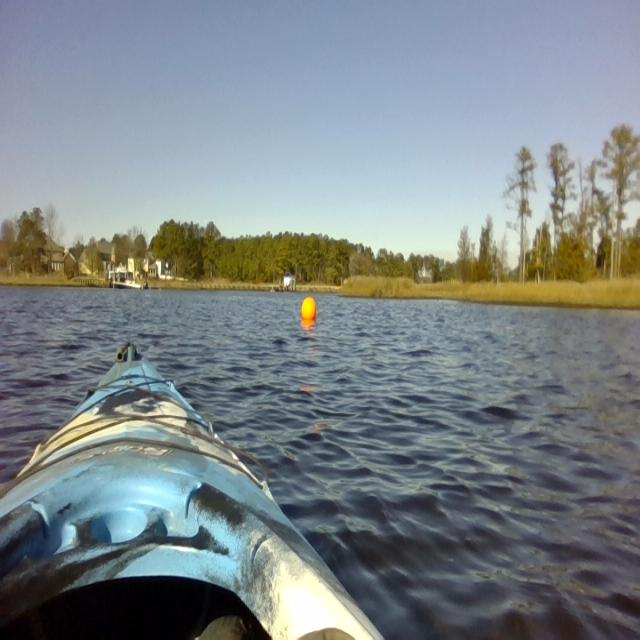Buoy: (300, 294, 321, 332)
